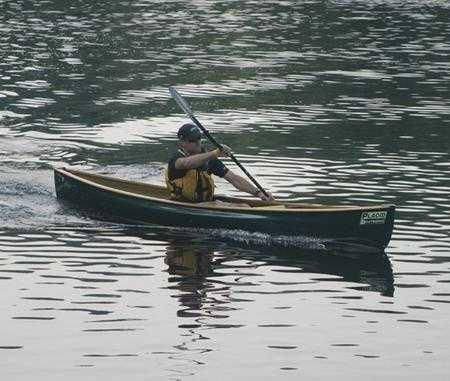kayak: (52, 164, 396, 250)
